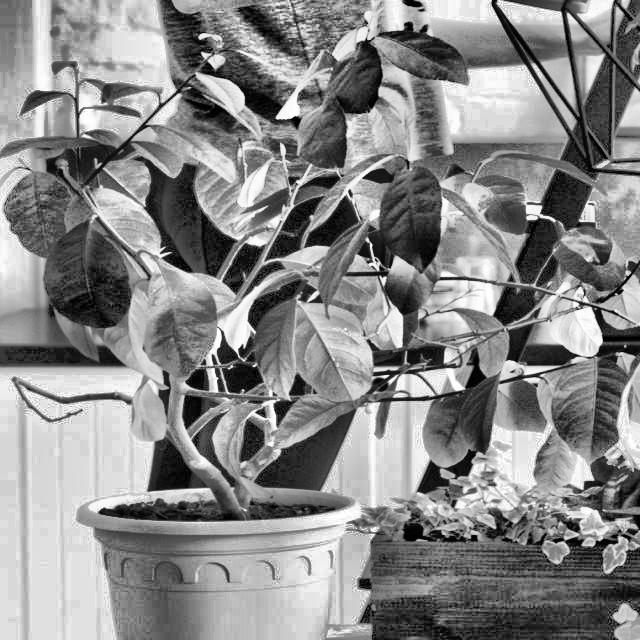plants: (38, 65, 352, 626)
